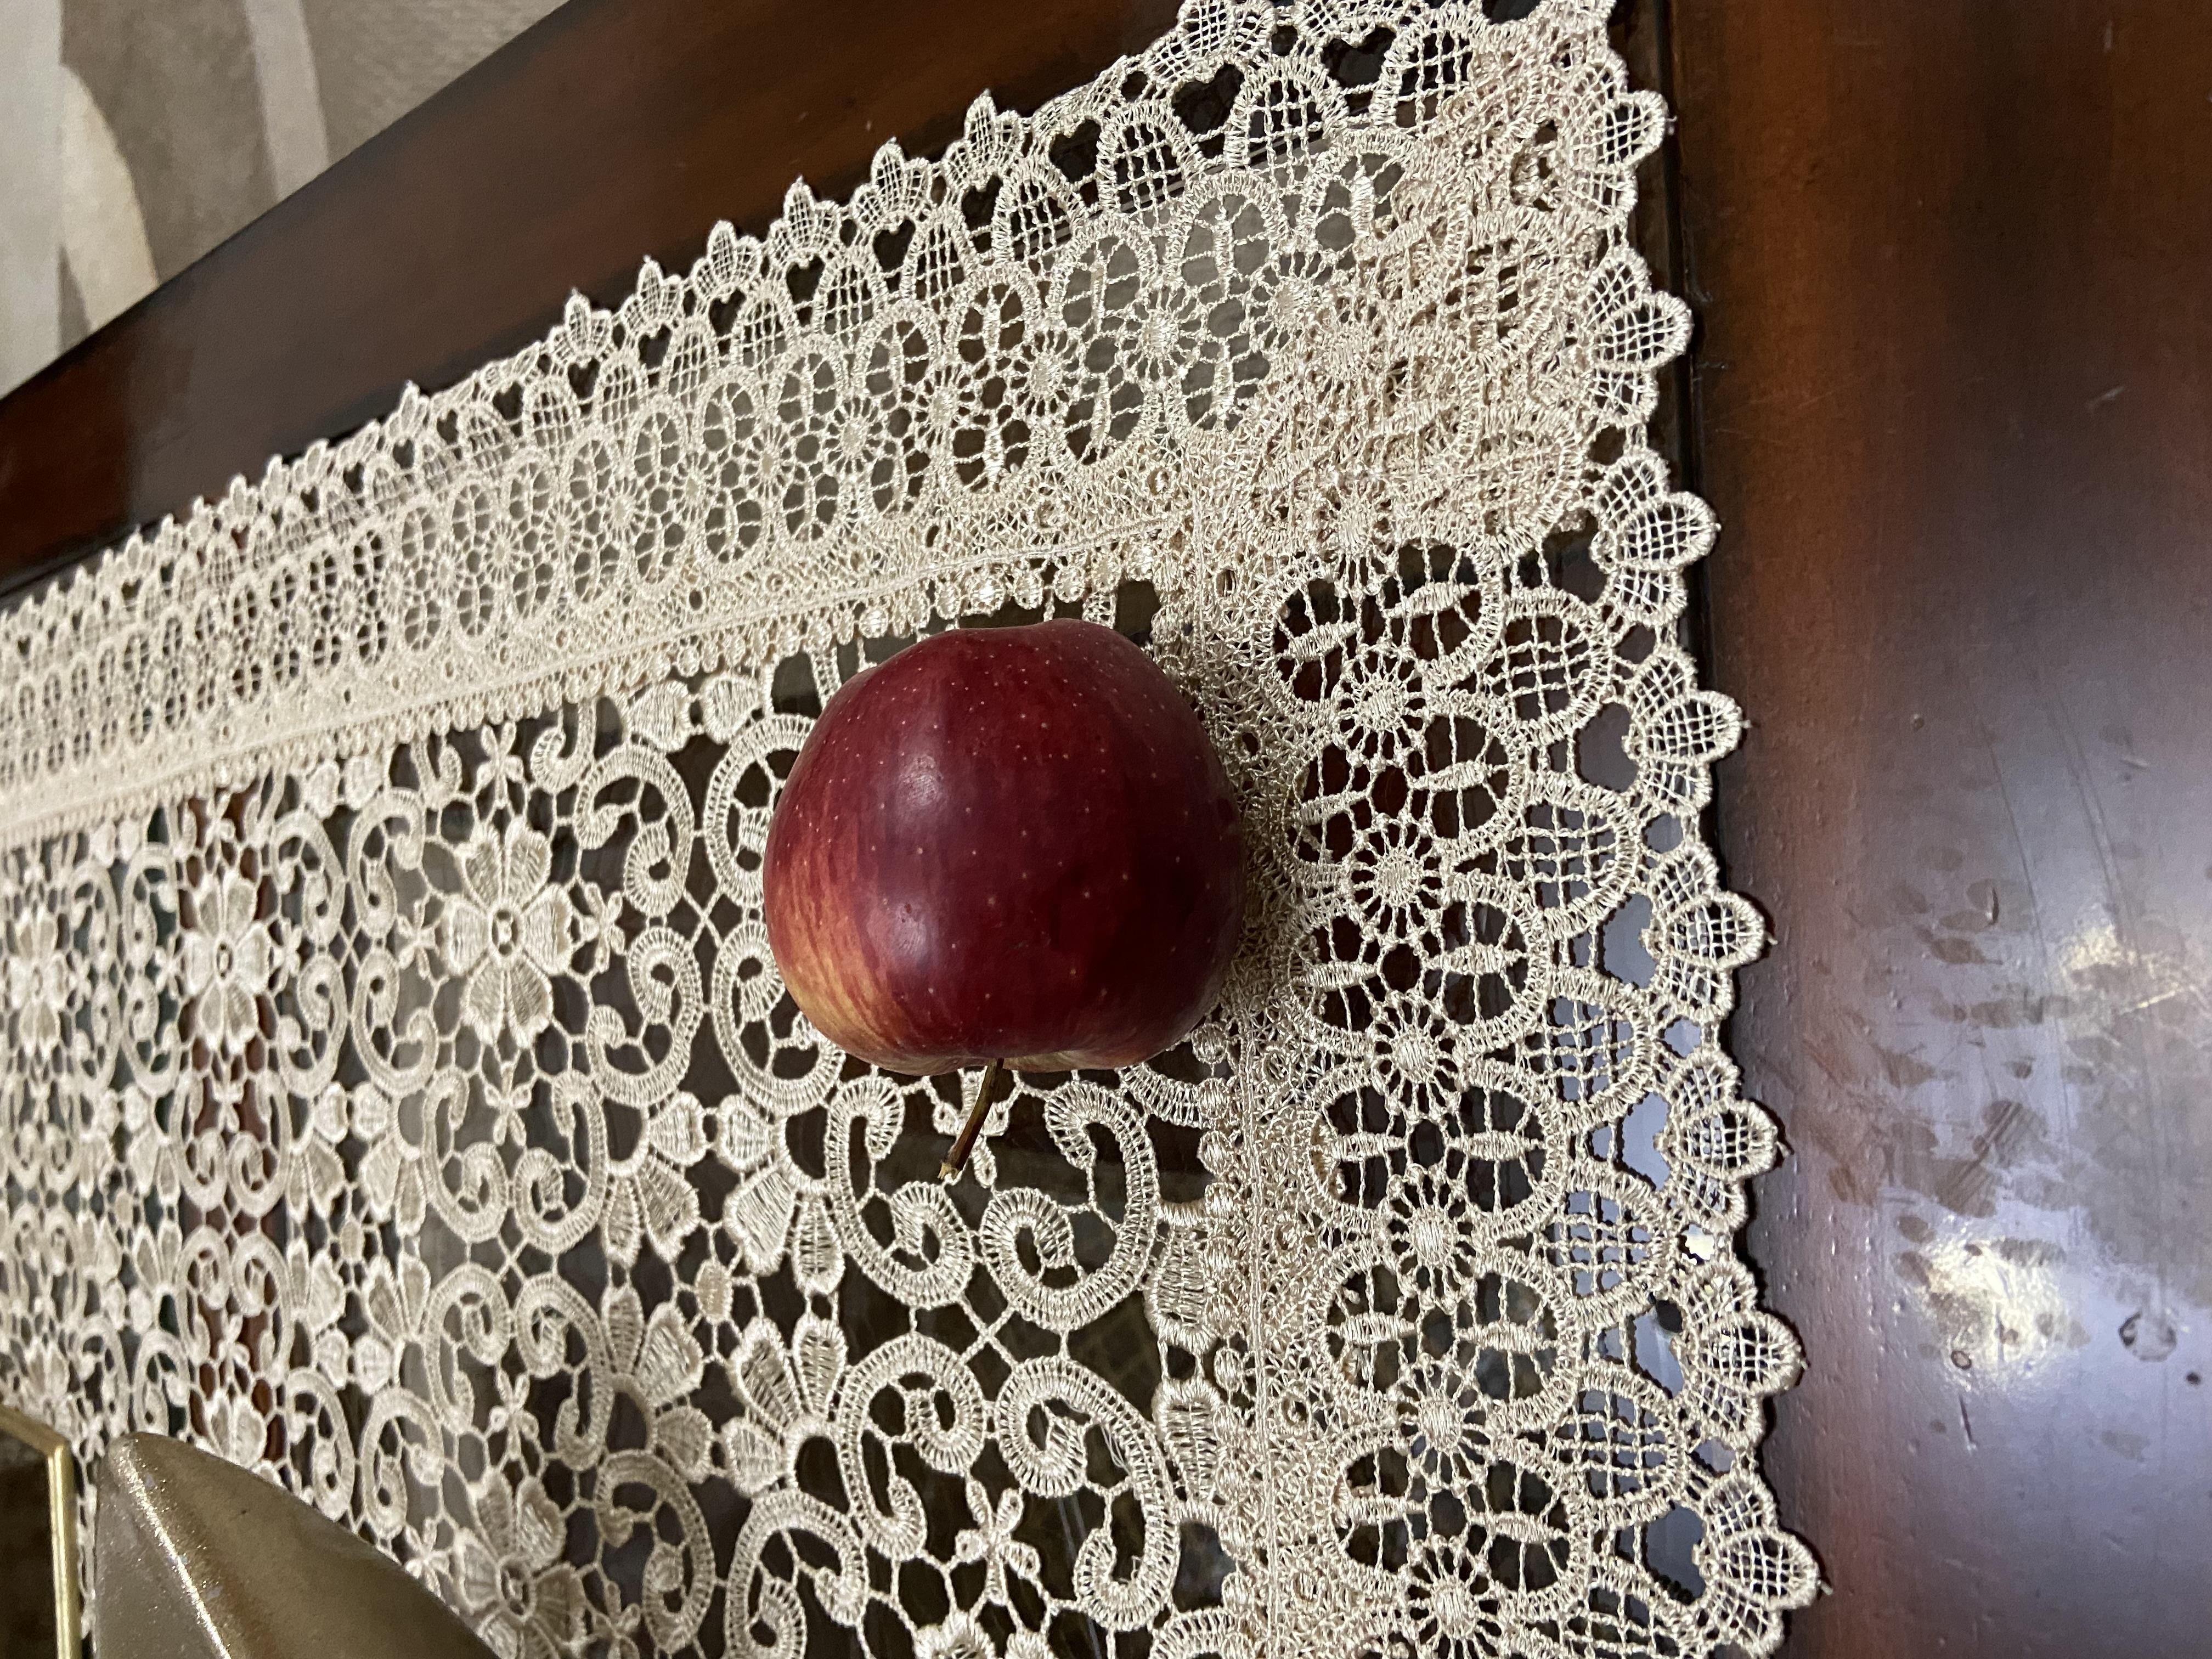Apple: (662, 563, 1413, 943)
